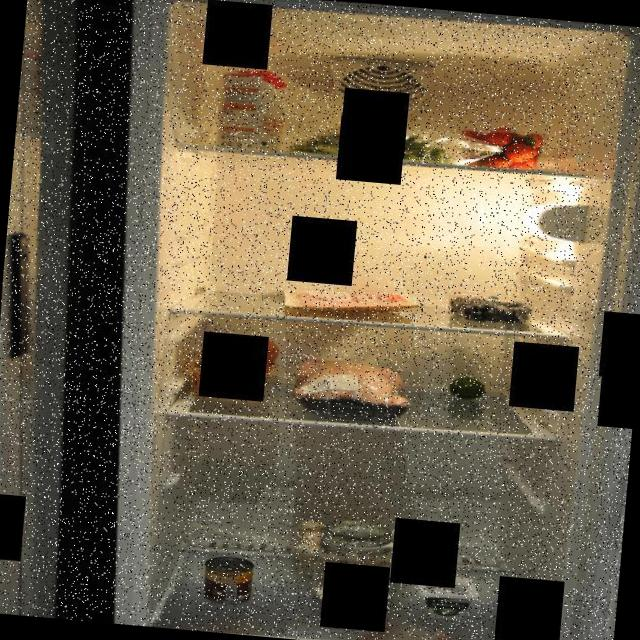Carne cerdo: (280, 281, 424, 319)
Carne pollo: (283, 351, 419, 428)
Cebolla: (182, 328, 282, 406)
Champiñones: (288, 512, 416, 580)
